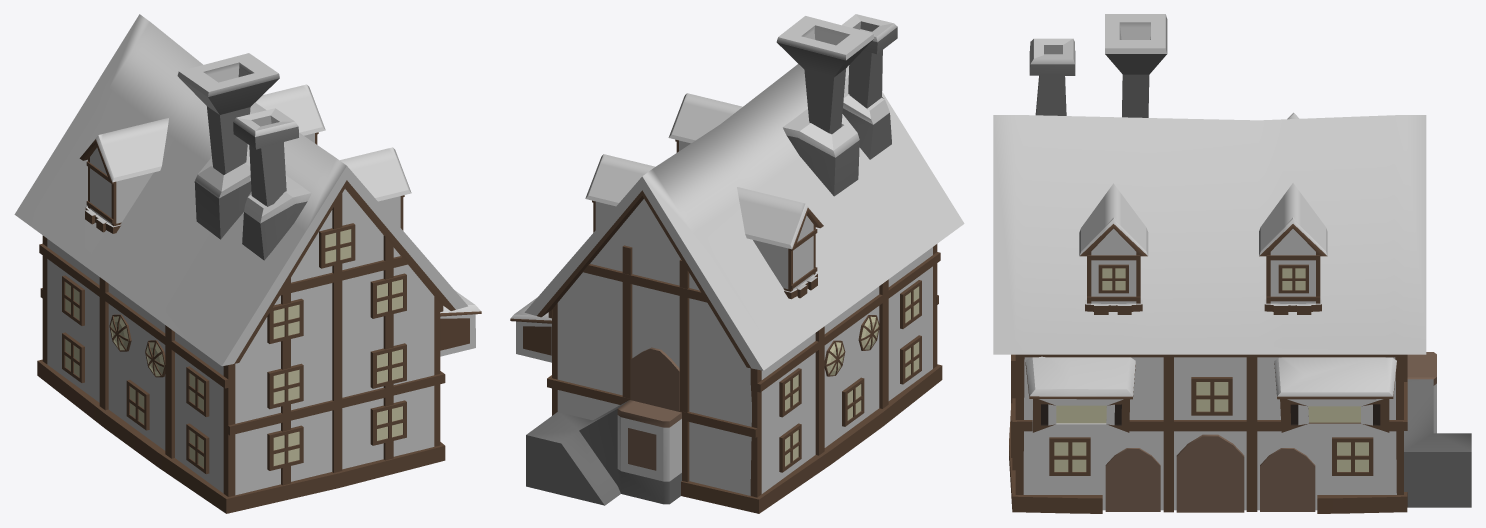
The model's file is FMP_Manor_Shaded.fbx.
3 renders of one model, left to right at view 1: azimuth 30°, elevation 25°; view 2: azimuth 150°, elevation 25°; view 3: azimuth 270°, elevation 25°, orthographic. The views are drawn at different scales.
Parts seen in each view (by area): view 1: pCube197; view 2: pCube197; view 3: pCube197.
Part boxes in pixels (x1,y1,x2,y2): pCube197: (14,14,481,513); pCube197: (510,14,964,513); pCube197: (993,14,1471,513).
Size of the model in its own units: 1919 by 2547 by 2747.
